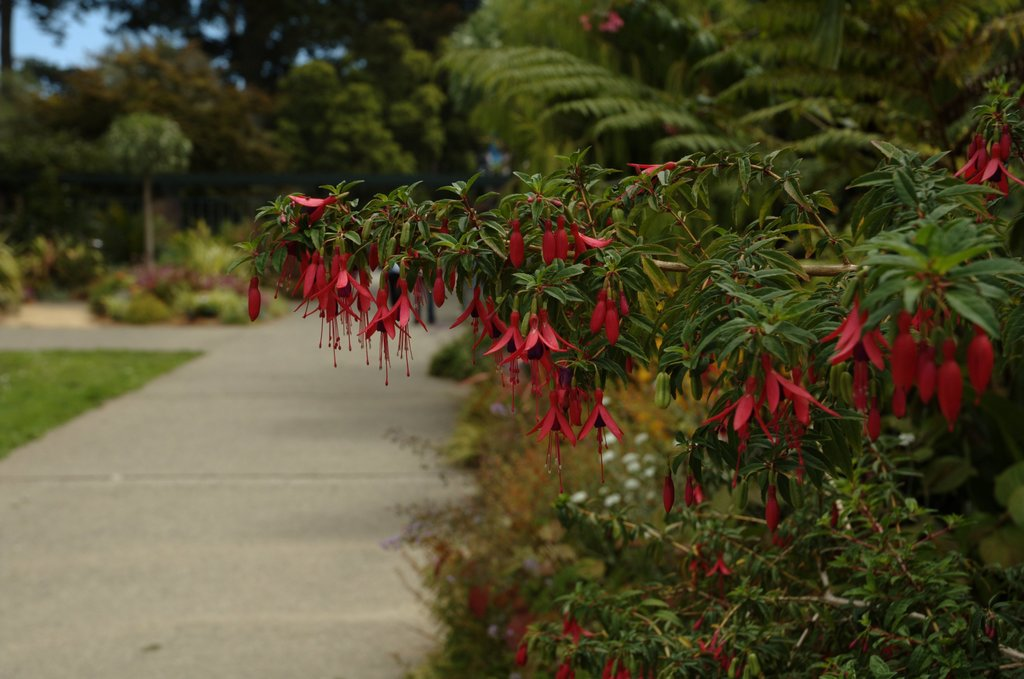Tree: (0, 0, 1023, 678), (96, 108, 195, 267)
